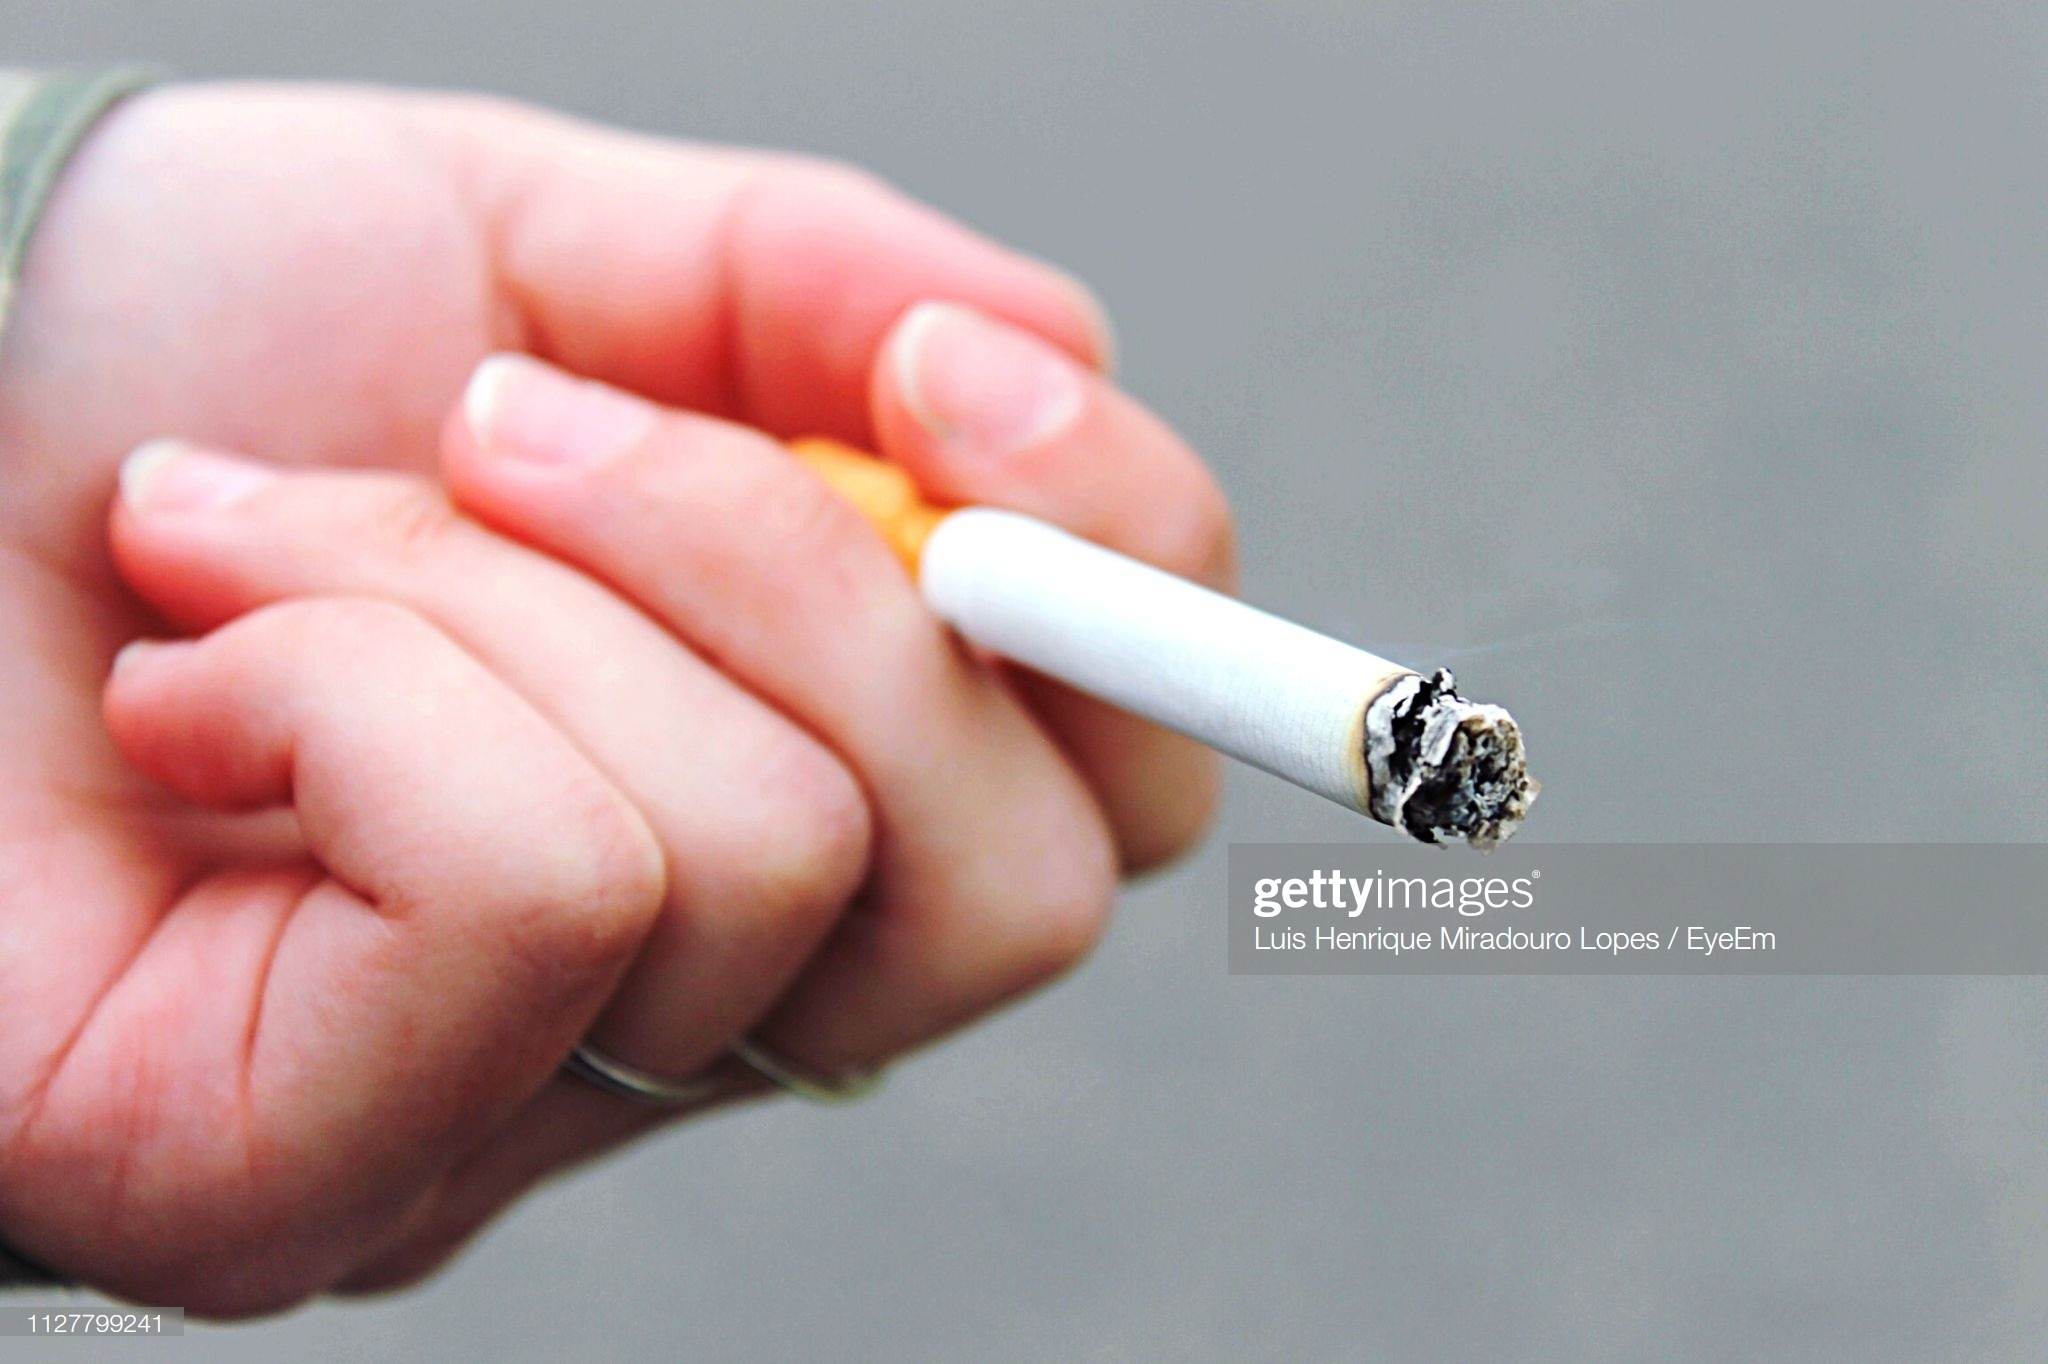sigaretta: (785, 403, 1468, 872)
